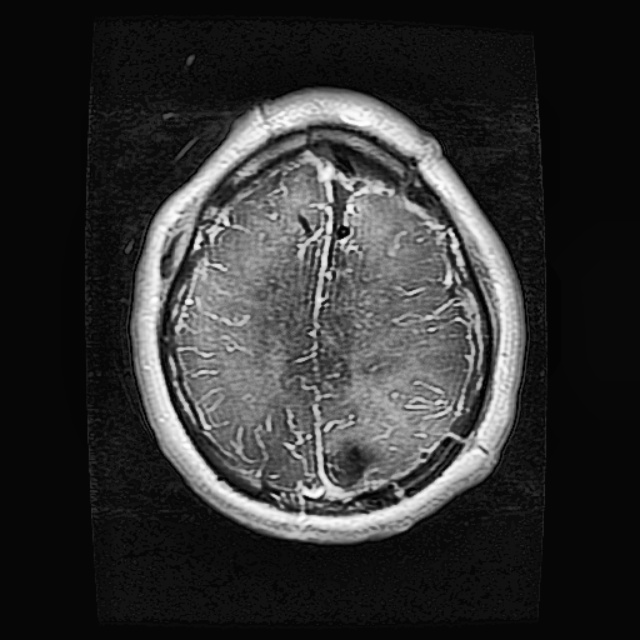Meningioma: (322, 444, 372, 489)
